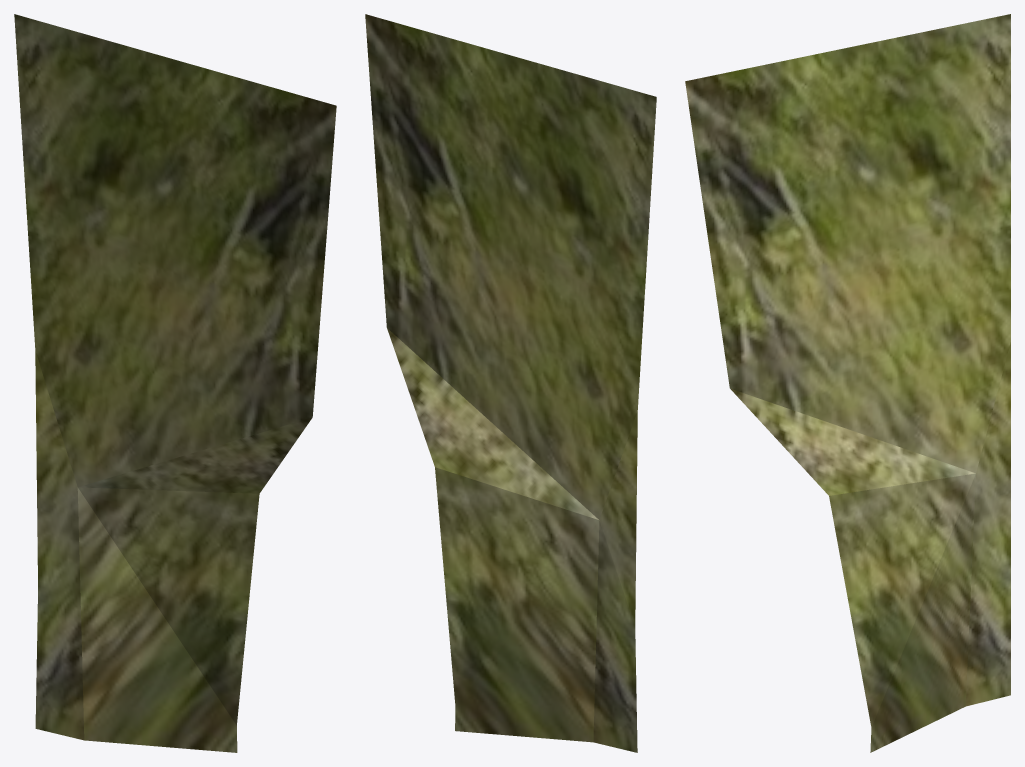
The picture shows the model from 3 angles, left to right: view 1: azimuth 30°, elevation 25°; view 2: azimuth 210°, elevation 25°; view 3: azimuth 270°, elevation 25°; orthographic projection. The views are drawn at different scales.
Bounding box in the file's own units: 0.6338 × 2.95 × 1.3.
Materials: 1 (1 with a texture image).
